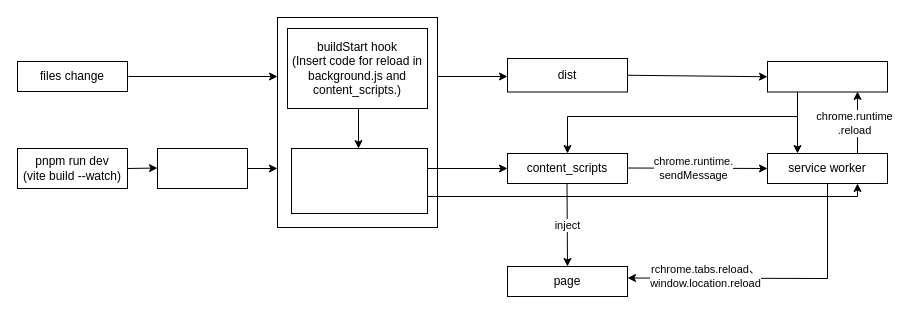
This 909x314 diagram has some shape labels left out. The centre of each missing label's shape, as x and y in pixels:
chrome extension: (827,76)
start websocket service: (202,168)
writeBundle hook (websocket sends message to the client.): (359,181)
